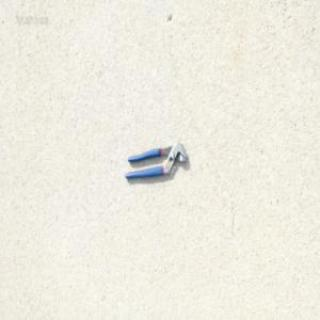Pliertrack_idkeyframe: (124, 140, 188, 180)
